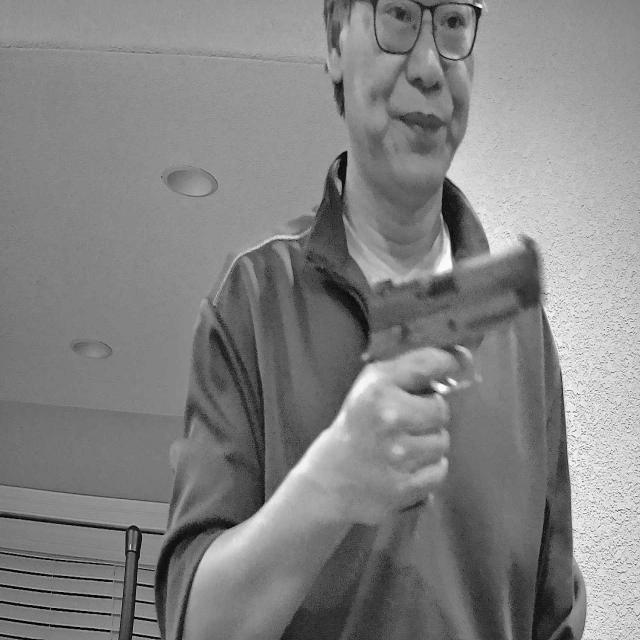Hand-Gun: (361, 216, 561, 519)
